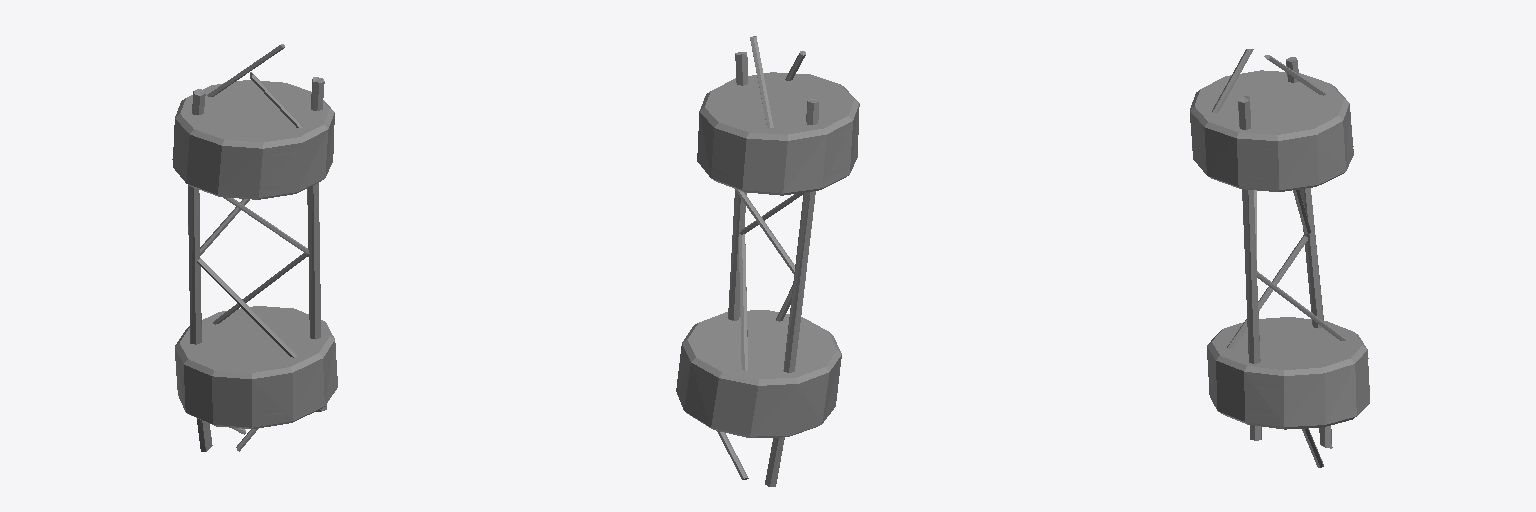
File: cpz_obj_roundirontower_brk_09.obj
The picture shows the model from 3 angles: view 1: azimuth 30°, elevation 25°; view 2: azimuth 150°, elevation 25°; view 3: azimuth 270°, elevation 25°; orthographic projection.
Visible parts, largest first — view 1: cpz_metal_tn1_roundparts_001, cpz_metal_tn1_roundparts_002, cpz_metal_tn1_roundirontowerbar, cpz_etc_tn1_towerlight_001; view 2: cpz_metal_tn1_roundparts_001, cpz_metal_tn1_roundparts_002, cpz_metal_tn1_roundirontowerbar, cpz_etc_tn1_towerlight_001; view 3: cpz_metal_tn1_roundparts_001, cpz_metal_tn1_roundparts_002, cpz_metal_tn1_roundirontowerbar, cpz_etc_tn1_towerlight_001.
Part boxes in pixels (bbox=[...]): cpz_metal_tn1_roundparts_001: bbox=[173, 98, 337, 428]; cpz_metal_tn1_roundparts_002: bbox=[180, 80, 329, 372]; cpz_metal_tn1_roundirontowerbar: bbox=[188, 44, 326, 451]; cpz_etc_tn1_towerlight_001: bbox=[172, 126, 300, 419]; cpz_metal_tn1_roundparts_001: bbox=[676, 86, 859, 437]; cpz_metal_tn1_roundparts_002: bbox=[687, 72, 854, 378]; cpz_metal_tn1_roundirontowerbar: bbox=[717, 36, 818, 486]; cpz_etc_tn1_towerlight_001: bbox=[685, 130, 852, 427]; cpz_metal_tn1_roundparts_001: bbox=[1190, 84, 1369, 429]; cpz_metal_tn1_roundparts_002: bbox=[1195, 70, 1361, 369]; cpz_metal_tn1_roundirontowerbar: bbox=[1212, 49, 1345, 467]; cpz_etc_tn1_towerlight_001: bbox=[1192, 112, 1369, 418].
Bounding box in the file's own units: 519 × 1368 × 533.